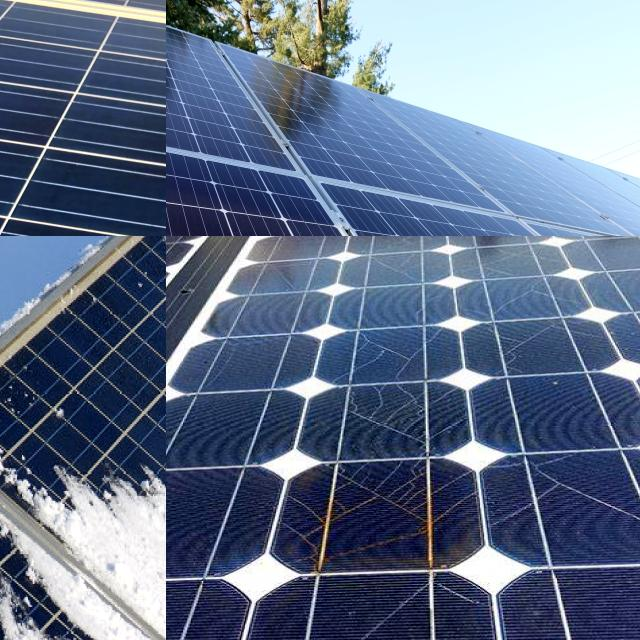crack: (199, 6, 534, 236), (166, 118, 558, 236), (357, 79, 640, 236), (0, 0, 166, 236), (306, 157, 640, 236)
panel: (80, 396, 166, 587), (0, 496, 113, 640), (0, 565, 118, 640), (0, 457, 93, 524), (132, 433, 166, 555), (0, 368, 45, 440)
shadow: (280, 422, 475, 598)
